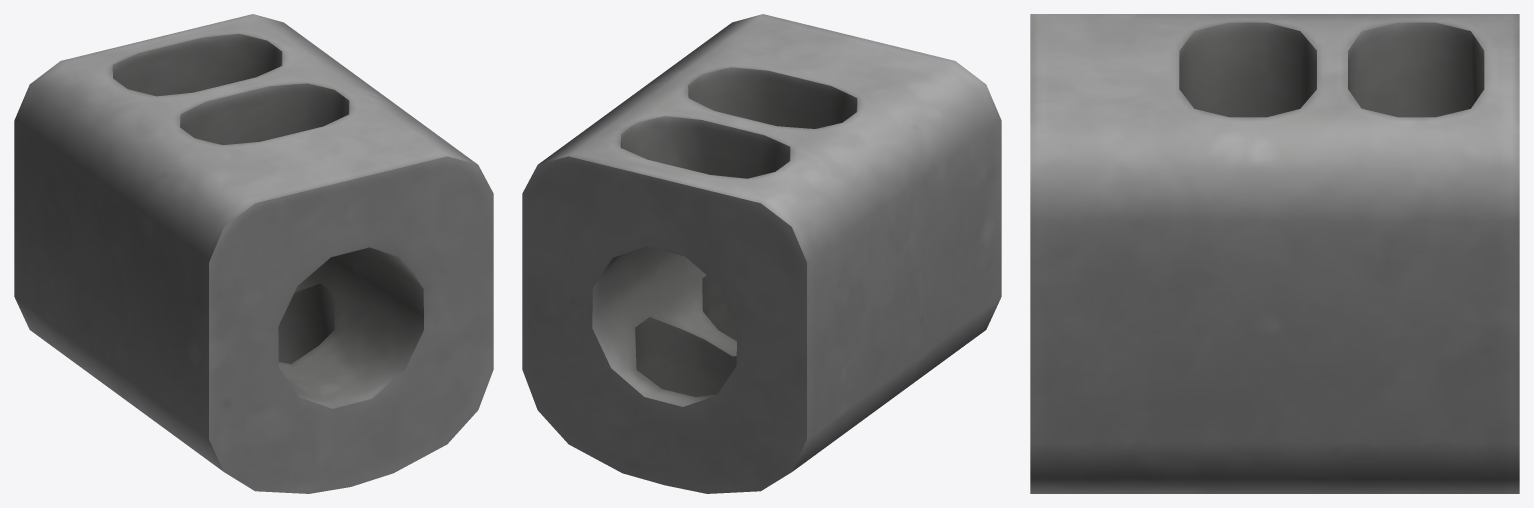
File: IG_Acc_Muzzle_PST_SCA_1.fbx
3 views of the same model, side by side, from view 1: azimuth 30°, elevation 25°; view 2: azimuth 150°, elevation 25°; view 3: azimuth 270°, elevation 25° (orthographic). The views are drawn at different scales.
Visible parts, largest first — view 1: Muzzle_PST_SCA_1; view 2: Muzzle_PST_SCA_1; view 3: Muzzle_PST_SCA_1.
Boxes of the visible parts, x1=… form: Muzzle_PST_SCA_1: x1=14, y1=14, x2=493, y2=493; Muzzle_PST_SCA_1: x1=522, y1=14, x2=1001, y2=493; Muzzle_PST_SCA_1: x1=1030, y1=14, x2=1519, y2=493.
Bounding box in the file's own units: 0.0694 × 0.0721 × 0.0821.
